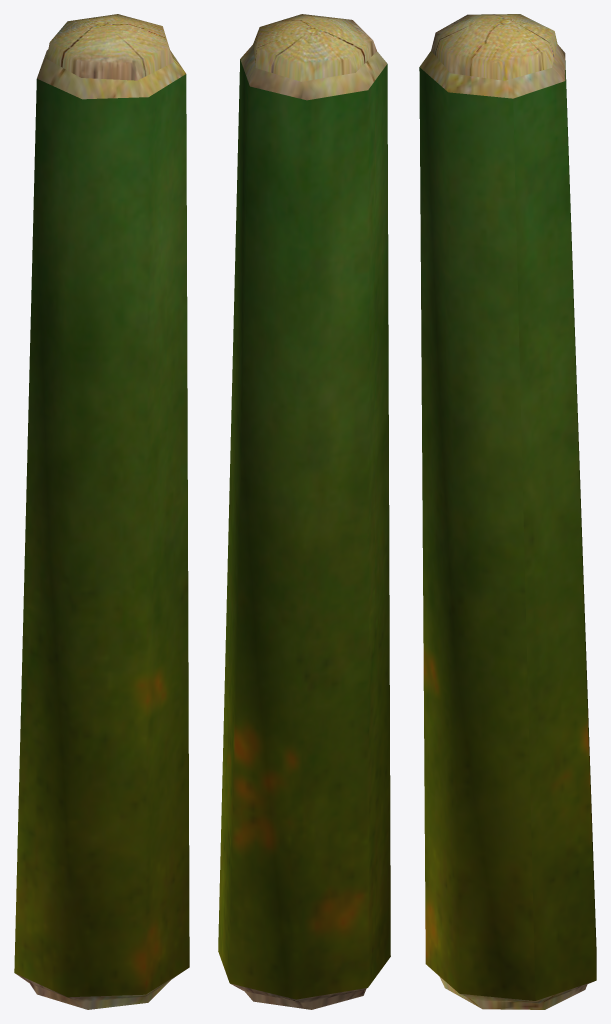
The model's file is fracturePiece1.fbx.
3 renders of one model, left to right at view 1: azimuth 30°, elevation 25°; view 2: azimuth 150°, elevation 25°; view 3: azimuth 270°, elevation 25°, orthographic.
Parts seen in each view (by area): view 1: fracturePiece1; view 2: fracturePiece1; view 3: fracturePiece1.
Boxes of the visible parts, x1,y1,x2,y2 form: fracturePiece1: (14,14,189,1009); fracturePiece1: (218,14,390,1009); fracturePiece1: (419,14,596,1009).
Bounding box in the file's own units: 23.36 × 142 × 23.61.
